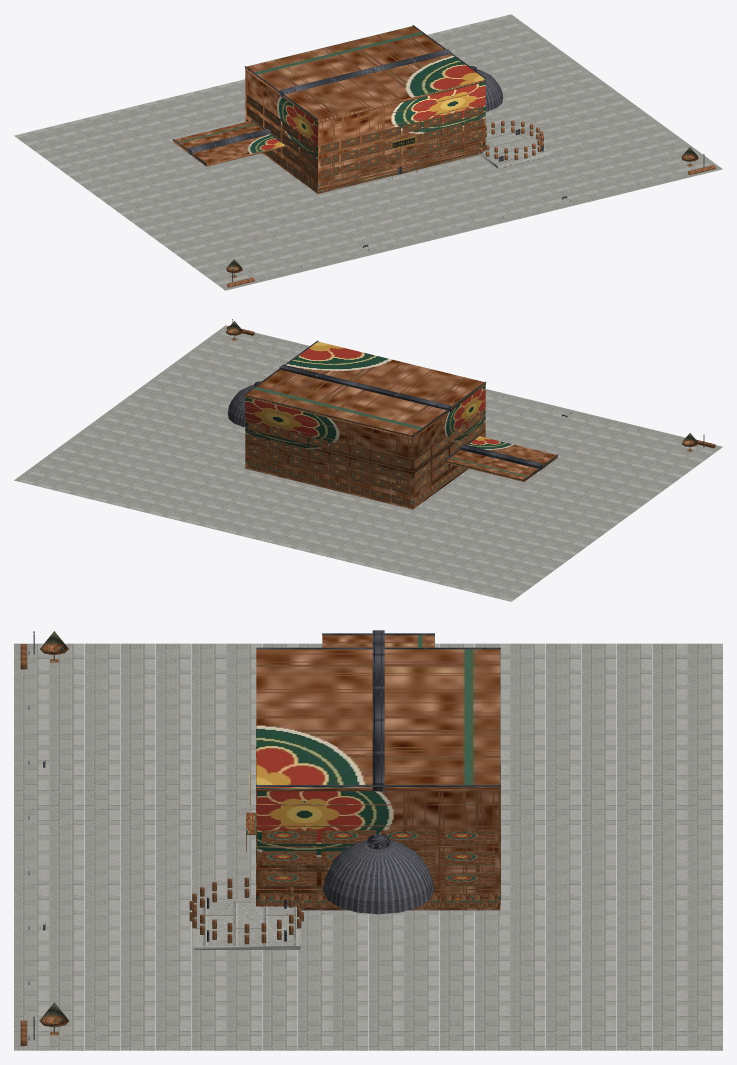
The picture shows the model from 3 angles, top to bottom: view 1: azimuth 30°, elevation 25°; view 2: azimuth 150°, elevation 25°; view 3: azimuth 270°, elevation 25°; orthographic projection. The views are drawn at different scales.
Visible parts, largest first — view 1: 11710_01_05717_041_01__plinth_ground_base, 11710_01_05717_041_02__mass_body_facade, 11710_01_05717_041_03__roof_metal_ornament, 11710_01_05717_041_05__window_sash_glass, 11710_01_05717_041_06__landscape_greenery, 11710_01_05717_041_03__roof_deck_structure; view 2: 11710_01_05717_041_01__plinth_ground_base, 11710_01_05717_041_02__mass_body_facade, 11710_01_05717_041_03__roof_metal_ornament, 11710_01_05717_041_03__roof_deck_structure, 11710_01_05717_041_06__landscape_greenery; view 3: 11710_01_05717_041_01__plinth_ground_base, 11710_01_05717_041_02__mass_body_facade, 11710_01_05717_041_03__roof_deck_structure, 11710_01_05717_041_03__roof_metal_ornament, 11710_01_05717_041_05__window_sash_glass, 11710_01_05717_041_06__landscape_greenery.
Part boxes in pixels (left/top/right/bottom): 11710_01_05717_041_01__plinth_ground_base: left=14, top=14, right=722, bottom=290; 11710_01_05717_041_02__mass_body_facade: left=173, top=26, right=485, bottom=193; 11710_01_05717_041_03__roof_metal_ornament: left=172, top=25, right=486, bottom=164; 11710_01_05717_041_05__window_sash_glass: left=329, top=120, right=543, bottom=184; 11710_01_05717_041_06__landscape_greenery: left=226, top=147, right=715, bottom=287; 11710_01_05717_041_03__roof_deck_structure: left=477, top=69, right=502, bottom=111; 11710_01_05717_041_01__plinth_ground_base: left=14, top=325, right=722, bottom=601; 11710_01_05717_041_02__mass_body_facade: left=245, top=341, right=557, bottom=509; 11710_01_05717_041_03__roof_metal_ornament: left=244, top=340, right=558, bottom=479; 11710_01_05717_041_03__roof_deck_structure: left=227, top=385, right=253, bottom=427; 11710_01_05717_041_06__landscape_greenery: left=225, top=321, right=715, bottom=451; 11710_01_05717_041_01__plinth_ground_base: left=14, top=643, right=722, bottom=1050; 11710_01_05717_041_02__mass_body_facade: left=246, top=635, right=500, bottom=910; 11710_01_05717_041_03__roof_deck_structure: left=323, top=840, right=434, bottom=914; 11710_01_05717_041_03__roof_metal_ornament: left=256, top=630, right=500, bottom=849; 11710_01_05717_041_05__window_sash_glass: left=189, top=725, right=303, bottom=944; 11710_01_05717_041_06__landscape_greenery: left=20, top=631, right=69, bottom=1045.
Size of the model in its own units: 190 by 29 by 140.
Materials: 7 (7 with a texture image).
